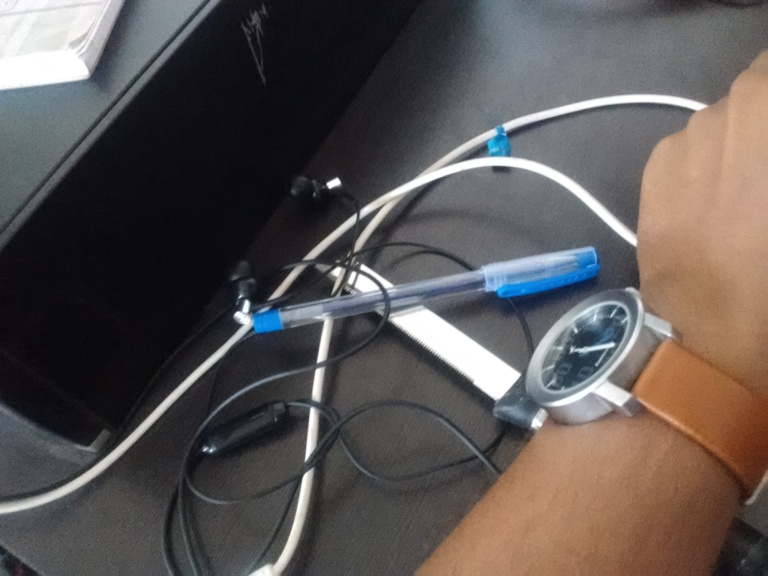knife: (315, 258, 525, 425)
